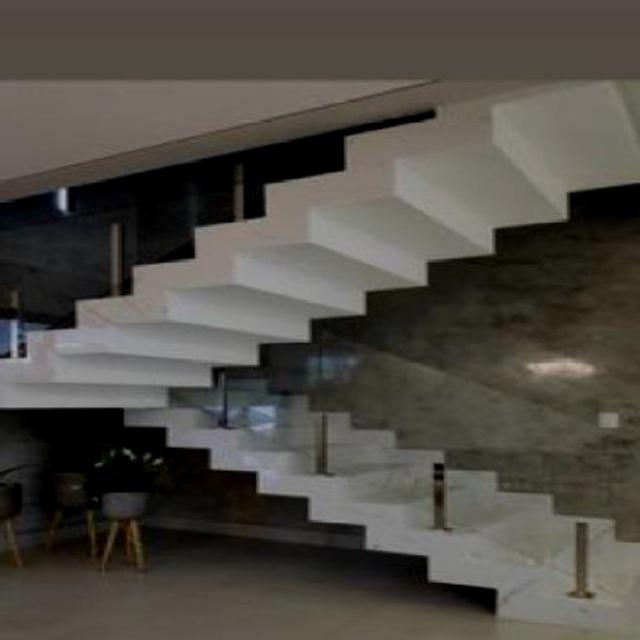stair: (100, 328, 634, 638)
